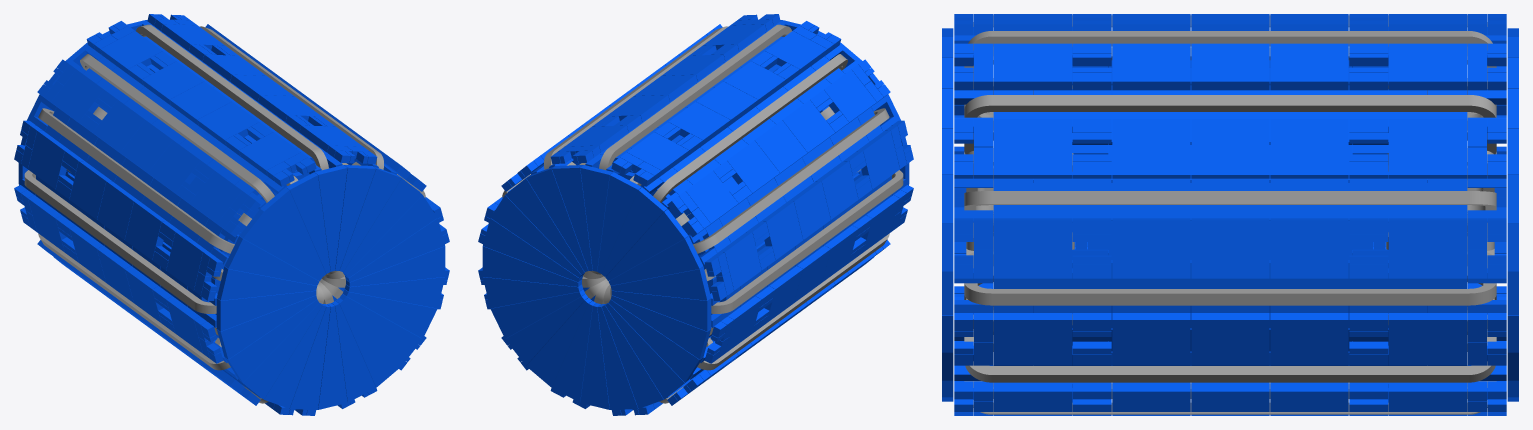
The model's file is chambers-and-coils.obj.
3 renders of one model, left to right at view 1: azimuth 30°, elevation 25°; view 2: azimuth 150°, elevation 25°; view 3: azimuth 270°, elevation 25°, orthographic. The views are drawn at different scales.
Visible parts, largest first — view 1: coil_barrel_06, coil_barrel_03, coil_barrel_04, coil_barrel_05, chamber_EP3_REFINED_FULL_S10, chamber_EP3_REFINED_FULL_S11, chamber_EP3_REFINED_FULL_S08, chamber_EP3_REFINED_FULL_S12, chamber_EP3_REFINED_FULL_S07, chamber_EP3_REFINED_FULL_S09, chamber_EP3_REFINED_FULL_S06, chamber_EP3_REFINED_FULL_S13 (+53 smaller); view 2: coil_barrel_06, coil_barrel_03, coil_barrel_04, coil_barrel_05, chamber_EM3_REFINED_FULL_S10, chamber_EM3_REFINED_FULL_S11, chamber_EM3_REFINED_FULL_S08, chamber_EM3_REFINED_FULL_S12, chamber_EM3_REFINED_FULL_S07, chamber_EM3_REFINED_FULL_S09, chamber_EM3_REFINED_FULL_S06, chamber_EM3_REFINED_FULL_S13 (+53 smaller); view 3: coil_barrel_02, coil_barrel_00, coil_barrel_11, coil_barrel_01, coil_barrel_03, chamber_B3_F01_Z00_z1_MERGED, chamber_B3_F01_Z05_z1_MERGED, chamber_B3_F01_Z02, chamber_B3_F01_Z03, chamber_B3_F01_Z04, chamber_B3_F03_Z00_z1_MERGED, chamber_B3_F03_Z05_z1_MERGED (+79 smaller).
Boxes of the visible parts, x1,y1,x2,y2 form: coil_barrel_06: [24, 170, 216, 313]; coil_barrel_03: [136, 24, 328, 170]; coil_barrel_04: [80, 54, 274, 202]; coil_barrel_05: [38, 108, 234, 253]; chamber_EP3_REFINED_FULL_S10: [225, 236, 319, 285]; chamber_EP3_REFINED_FULL_S11: [217, 266, 317, 300]; chamber_EP3_REFINED_FULL_S08: [260, 187, 325, 276]; chamber_EP3_REFINED_FULL_S12: [216, 290, 316, 331]; chamber_EP3_REFINED_FULL_S07: [286, 172, 330, 273]; chamber_EP3_REFINED_FULL_S09: [239, 209, 322, 280]; chamber_EP3_REFINED_FULL_S06: [314, 165, 347, 271]; chamber_EP3_REFINED_FULL_S13: [217, 295, 316, 359]; coil_barrel_06: [711, 170, 903, 313]; coil_barrel_03: [599, 24, 791, 170]; coil_barrel_04: [653, 54, 847, 202]; coil_barrel_05: [693, 108, 889, 253]; chamber_EM3_REFINED_FULL_S10: [608, 236, 702, 285]; chamber_EM3_REFINED_FULL_S11: [610, 266, 710, 300]; chamber_EM3_REFINED_FULL_S08: [602, 187, 667, 276]; chamber_EM3_REFINED_FULL_S12: [611, 290, 711, 331]; chamber_EM3_REFINED_FULL_S07: [597, 172, 641, 273]; chamber_EM3_REFINED_FULL_S09: [605, 209, 688, 280]; chamber_EM3_REFINED_FULL_S06: [580, 165, 613, 271]; chamber_EM3_REFINED_FULL_S13: [611, 295, 710, 359]; coil_barrel_02: [964, 95, 1496, 154]; coil_barrel_00: [964, 252, 1496, 305]; coil_barrel_11: [964, 306, 1496, 382]; coil_barrel_01: [964, 191, 1496, 212]; coil_barrel_03: [964, 31, 1496, 130]; chamber_B3_F01_Z00_z1_MERGED: [1388, 218, 1467, 278]; chamber_B3_F01_Z05_z1_MERGED: [993, 218, 1072, 278]; chamber_B3_F01_Z02: [1270, 218, 1348, 278]; chamber_B3_F01_Z03: [1191, 218, 1269, 278]; chamber_B3_F01_Z04: [1112, 218, 1190, 278]; chamber_B3_F03_Z00_z1_MERGED: [1388, 119, 1467, 178]; chamber_B3_F03_Z05_z1_MERGED: [993, 119, 1072, 178].
Bounding box in the file's own units: 18.1 × 18.1 × 26.1.
